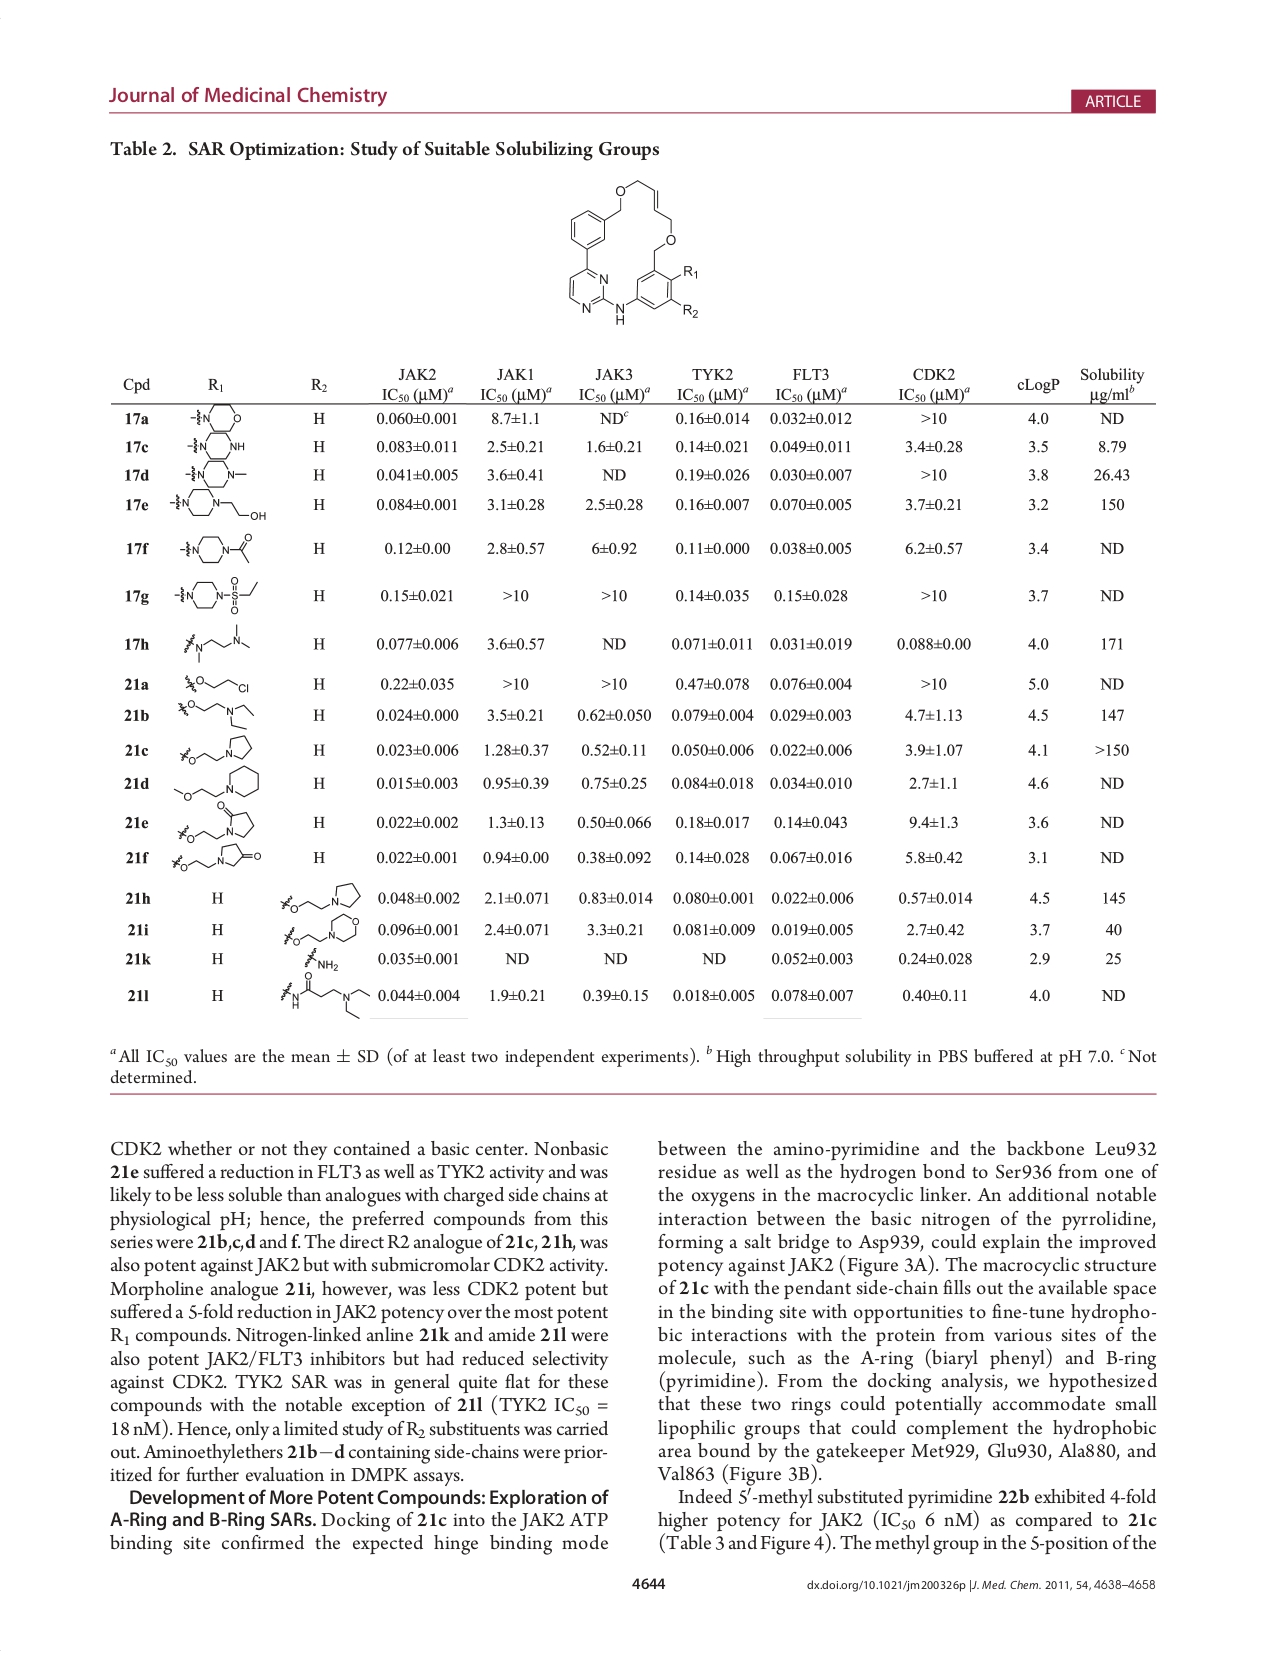exist_molecular: (564, 177, 702, 327), (277, 971, 372, 1023), (172, 575, 262, 618), (166, 488, 267, 525), (173, 801, 257, 844), (169, 763, 262, 802), (168, 843, 262, 875), (176, 529, 255, 567), (172, 697, 257, 731), (180, 622, 250, 664), (277, 879, 360, 914), (281, 914, 360, 948), (176, 733, 254, 765), (182, 457, 249, 489), (180, 670, 250, 697), (185, 432, 243, 459), (189, 403, 242, 431), (301, 950, 339, 971)
